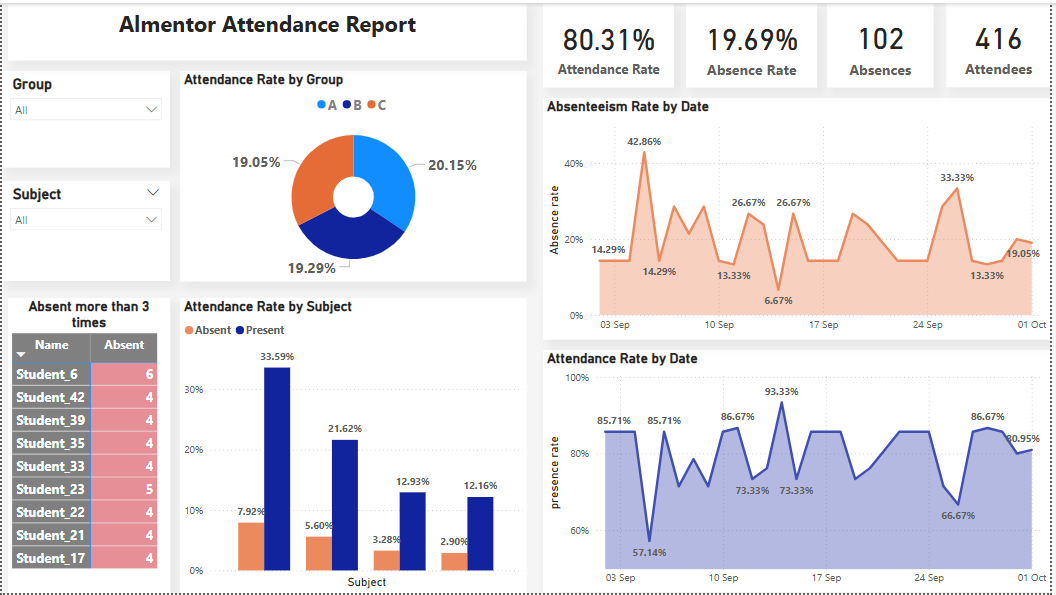

This screenshot's page, from the dashboard's own definition file:
{"tool":"powerbi","page":{"name":"Attendance","canvas":[1280,720],"ordinal":0},"visuals":[{"type":"areaChart","title":"Attendance Rate by Date","fields":{"Category":["Sessions.Date.Variation.Date Hierarchy.Year","Sessions.Date.Variation.Date Hierarchy.Quarter","Sessions.Date.Variation.Date Hierarchy.Month","Sessions.Date.Variation.Date Hierarchy.Day"],"Y":["Attendance.presence rate"]},"box":[660.6,423.2,619.4,296.4],"z":0},{"type":"areaChart","title":"Absenteeism Rate by Date","fields":{"Category":["Sessions.Date.Variation.Date Hierarchy.Year","Sessions.Date.Variation.Date Hierarchy.Quarter","Sessions.Date.Variation.Date Hierarchy.Month","Sessions.Date.Variation.Date Hierarchy.Day"],"Y":["Attendance.Absence rate"]},"box":[660.6,116.5,619.4,294.9],"z":1000},{"type":"donutChart","title":"Attendance Rate by Group","fields":{"Y":["Attendance.Absence rate"],"Category":["Sessions.Group"]},"box":[216.8,82.6,423.2,256.6],"z":2000},{"type":"slicer","fields":{"Values":["Sessions.Subject"]},"box":[0,216.8,205,122.4],"z":5000},{"type":"slicer","fields":{"Values":["Students.Group"]},"box":[0,82.6,205,118],"z":6000},{"type":"card","fields":{"Values":["Attendance.presence rate"]},"box":[660.2,1.3,160.3,102.2],"z":7000},{"type":"card","fields":{"Values":["Attendance.Absence rate"]},"box":[834.4,1.3,160.3,102.2],"z":8000},{"type":"card","title":"Attendees","fields":{"Values":["CountNonNull(Attendance.Attendance Status)"]},"box":[1151.7,0,128.3,103.2],"z":9000},{"type":"card","fields":{"Values":["CountNonNull(Attendance.Attendance Status)"]},"box":[1007.2,1.5,129.8,101.8],"z":10000},{"type":"pivotTable","title":"Absent more than 3 times","fields":{"Columns":["Attendance.Attendance Status"],"Values":["CountNonNull(Attendance.Attendance Status)"],"Rows":["Students.Name"]},"box":[7.4,359.8,197.6,359.8],"z":11000},{"type":"textbox","box":[7.4,1.5,632.6,69.3],"z":12000},{"type":"clusteredColumnChart","title":"Attendance Rate by Subject","fields":{"Y":["CountNonNull(Attendance.StudentID)"],"Series":["Attendance.Attendance Status"],"Category":["Sessions.Subject"]},"box":[216.8,359.8,423.2,359.8],"z":13000}]}

Visuals, with their boxes in screenshot pixels (x1, y1, x2, y2), scaled from the page's 1280x720 canvas onto the 1056x595 screenshot:
"Attendance Rate by Date" areaChart: pyautogui.locateOnScreen(545, 350, 1055, 594)
"Absenteeism Rate by Date" areaChart: pyautogui.locateOnScreen(545, 96, 1055, 340)
"Attendance Rate by Group" donutChart: pyautogui.locateOnScreen(179, 68, 528, 280)
slicer - Sessions.Subject: pyautogui.locateOnScreen(0, 179, 169, 280)
slicer - Students.Group: pyautogui.locateOnScreen(0, 68, 169, 166)
card - Attendance.presence rate: pyautogui.locateOnScreen(545, 1, 677, 86)
card - Attendance.Absence rate: pyautogui.locateOnScreen(688, 1, 821, 86)
"Attendees" card: pyautogui.locateOnScreen(950, 0, 1055, 85)
card - CountNonNull(Attendance.Attendance Status): pyautogui.locateOnScreen(831, 1, 938, 85)
"Absent more than 3 times" pivotTable: pyautogui.locateOnScreen(6, 297, 169, 594)
textbox: pyautogui.locateOnScreen(6, 1, 528, 59)
"Attendance Rate by Subject" clusteredColumnChart: pyautogui.locateOnScreen(179, 297, 528, 594)
